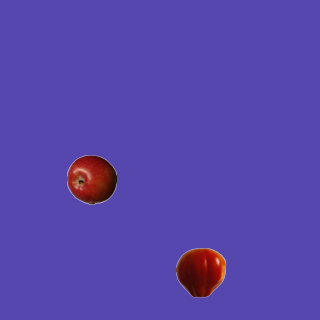Apple Braeburn: (66, 154, 116, 204)
Tomato 1: (175, 247, 225, 297)
